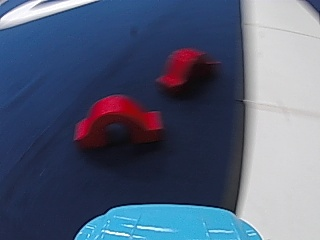bridge: (70, 91, 167, 150), (155, 45, 220, 99)
